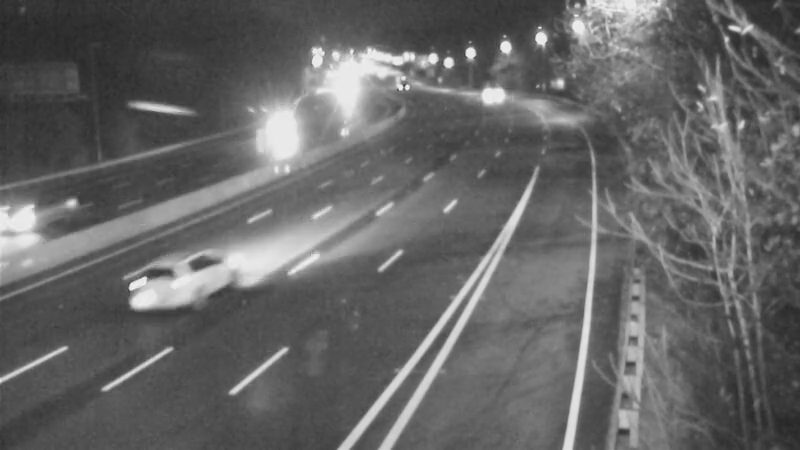vehicle: (137, 249, 217, 329), (1, 177, 77, 257), (378, 55, 428, 105), (459, 68, 509, 118), (251, 103, 301, 153)
